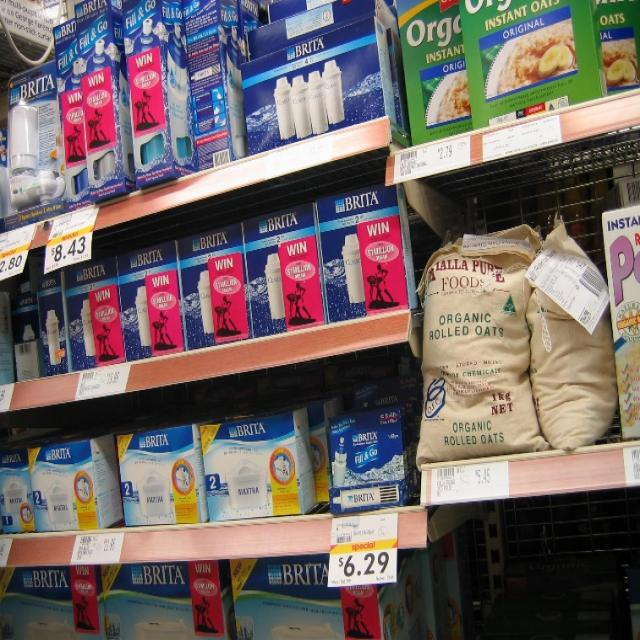q220: (208, 400, 315, 519), (26, 436, 120, 536), (120, 417, 201, 532)
q46: (316, 186, 408, 321), (247, 199, 324, 341), (177, 220, 248, 349), (52, 259, 126, 374), (122, 250, 181, 363)
